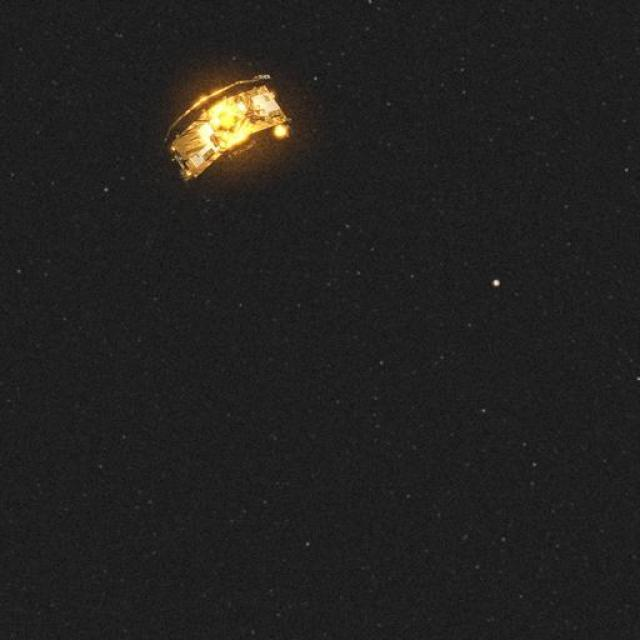lisa_pathfinder: (135, 58, 308, 214)
